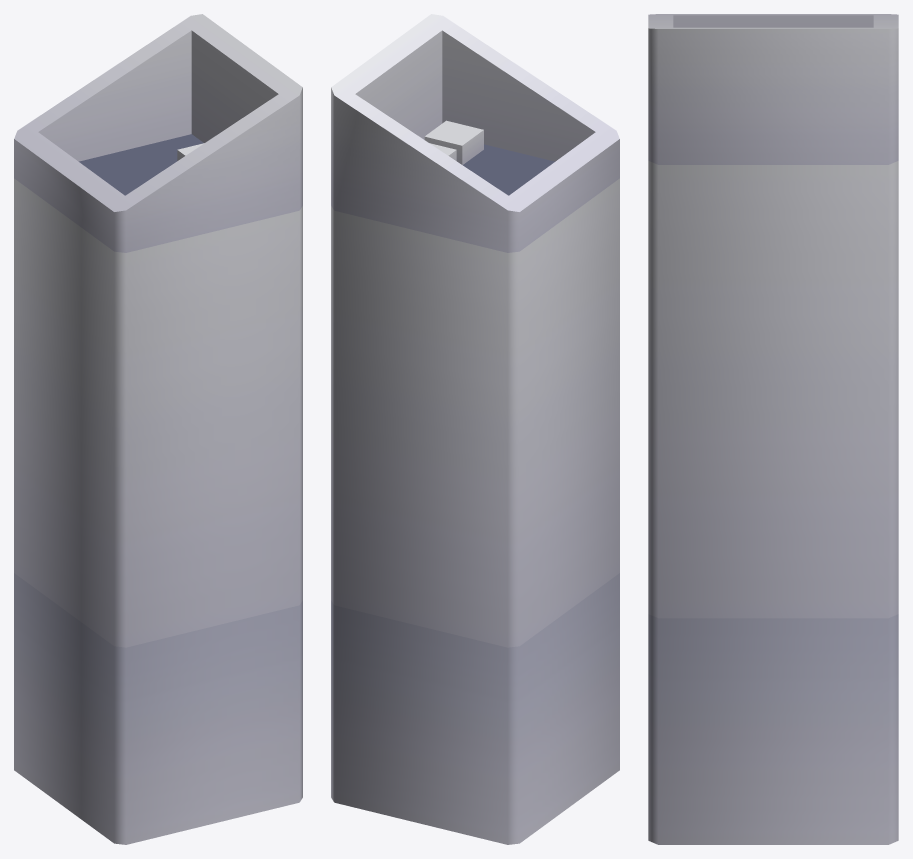
The model's file is low-detail-building-e.glb.
3 views of the same model, side by side, from view 1: azimuth 30°, elevation 25°; view 2: azimuth 150°, elevation 25°; view 3: azimuth 270°, elevation 25° (orthographic). The views are drawn at different scales.
Parts seen in each view (by area): view 1: low-detail-building-e; view 2: low-detail-building-e; view 3: low-detail-building-e.
Boxes of the visible parts, x1=… form: low-detail-building-e: x1=14, y1=14, x2=302, y2=844; low-detail-building-e: x1=331, y1=14, x2=619, y2=844; low-detail-building-e: x1=648, y1=14, x2=898, y2=844.
Size of the model in its own units: 0.4999 by 1.8 by 0.4999.
Materials: 1 (1 with a texture image).
